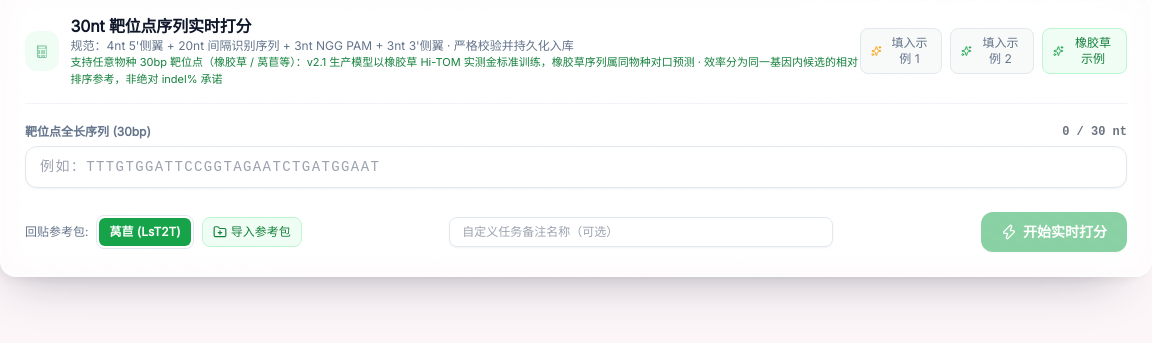
SingleScoringCard › renders input form with example button and validates 30bp
Expected: the heading "30nt 靶位点序列实时打分" is shown, [71,16,251,36]
Click the button "填入示例 1" at point(901, 50), box [860,28,942,74]
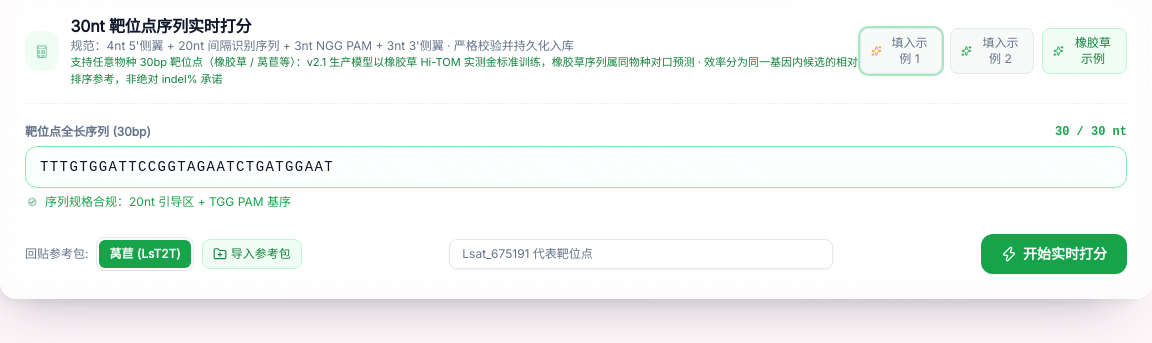
Expected: the field showing "TTTGTGGATTCCGGTAGAATCTGATGGAAT" is shown, [25,146,1127,188]
Now the text "30 / 30 nt" is shown, box [1055,124,1127,140]
